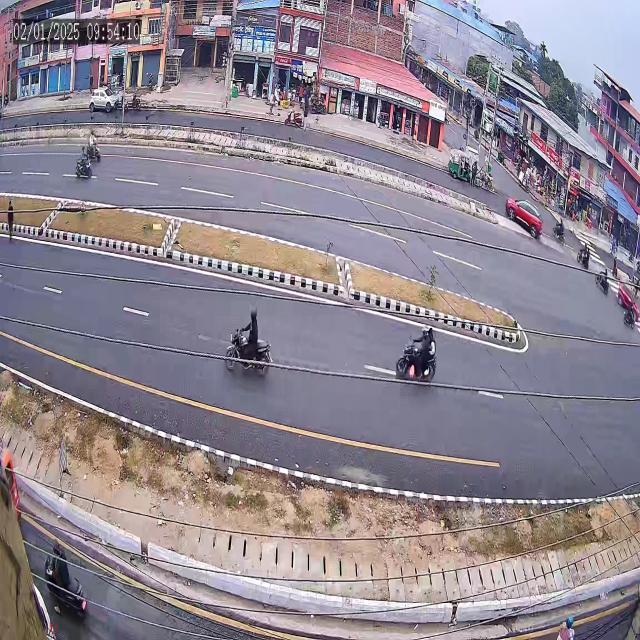motorcycle: (36, 517, 100, 633), (213, 289, 279, 397), (391, 305, 444, 399), (66, 141, 95, 183), (84, 122, 107, 162), (594, 256, 610, 310), (553, 203, 565, 258), (575, 231, 591, 272)
